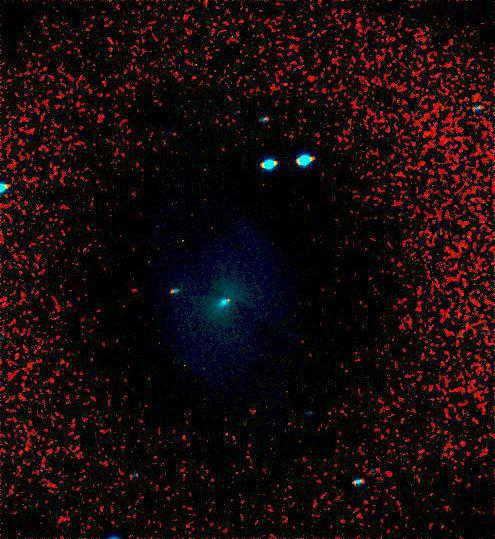star: (214, 286, 244, 316)
